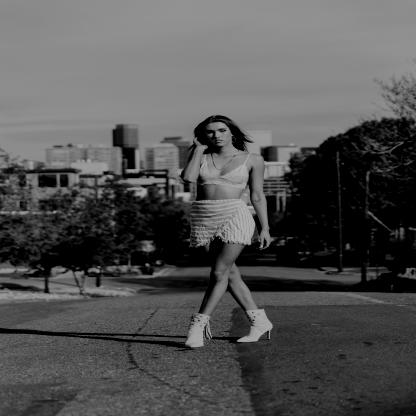jacket: (184, 197, 265, 255), (185, 146, 268, 196)
